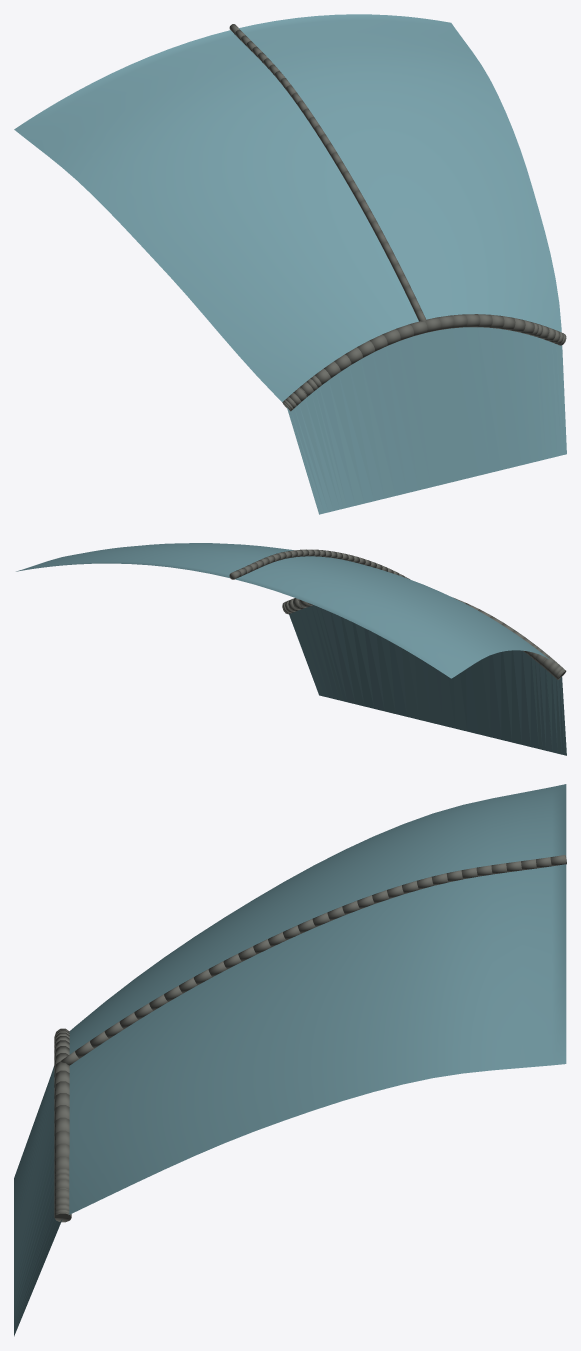
The model's file is PART_008_ShortenedFrontHood.glb.
The picture shows the model from 3 angles, top to bottom: view 1: azimuth 30°, elevation 25°; view 2: azimuth 150°, elevation 25°; view 3: azimuth 270°, elevation 25°; orthographic projection. The views are drawn at different scales.
Parts seen in each view (by area): view 1: BODY_BajaShortHood, BODY_CutFrontApron, TRIM_HoodEdge, TRIM_HoodCenter; view 2: BODY_CutFrontApron, BODY_BajaShortHood, TRIM_HoodCenter, TRIM_HoodEdge; view 3: BODY_BajaShortHood, BODY_CutFrontApron, TRIM_HoodCenter, TRIM_HoodEdge.
Boxes of the visible parts, left/top/right/bottom form: BODY_BajaShortHood: left=14, top=14, right=561, bottom=402; BODY_CutFrontApron: left=287, top=327, right=566, bottom=514; TRIM_HoodEdge: left=282, top=314, right=566, bottom=411; TRIM_HoodCenter: left=229, top=24, right=426, bottom=321; BODY_CutFrontApron: left=289, top=605, right=566, bottom=755; BODY_BajaShortHood: left=16, top=543, right=549, bottom=678; TRIM_HoodCenter: left=229, top=549, right=410, bottom=579; TRIM_HoodEdge: left=282, top=597, right=566, bottom=679; BODY_BajaShortHood: left=69, top=784, right=566, bottom=1214; BODY_CutFrontApron: left=14, top=1066, right=62, bottom=1336; TRIM_HoodCenter: left=61, top=855, right=566, bottom=1065; TRIM_HoodEdge: left=54, top=1028, right=71, bottom=1222.
Bounding box in the file's own units: 1.08 × 0.7238 × 0.9013.
